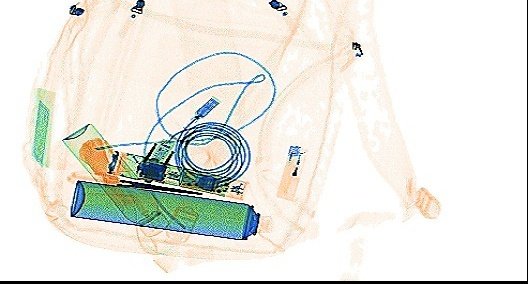lighter: (274, 142, 308, 202)
pressure: (58, 121, 169, 237), (67, 177, 271, 240)
scissors: (63, 167, 203, 195)
